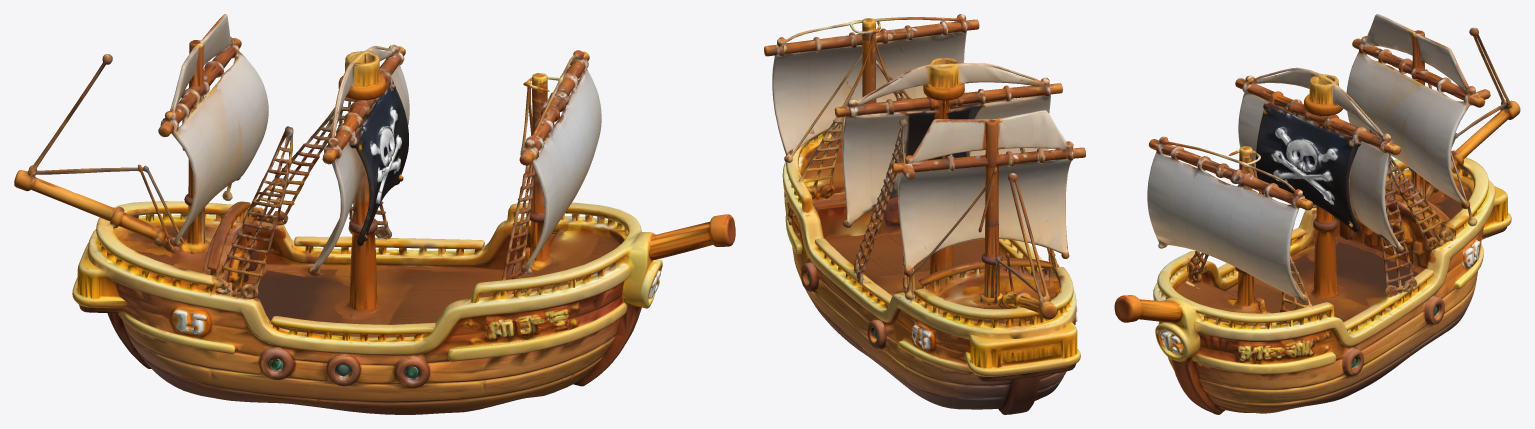
Rendered from finale-ship.glb.
The picture shows the model from 3 angles, left to right: view 1: azimuth 30°, elevation 25°; view 2: azimuth 150°, elevation 25°; view 3: azimuth 270°, elevation 25°; orthographic projection. The views are drawn at different scales.
Parts seen in each view (by area): view 1: Mesh_0; view 2: Mesh_0; view 3: Mesh_0.
Part boxes in pixels (x1=…): Mesh_0: x1=14, y1=14, x2=735, y2=414; Mesh_0: x1=764, y1=14, x2=1085, y2=414; Mesh_0: x1=1114, y1=14, x2=1520, y2=414.
Size of the model in its own units: 0.9384 by 0.581 by 0.7779.
1 material, 1 textured.
